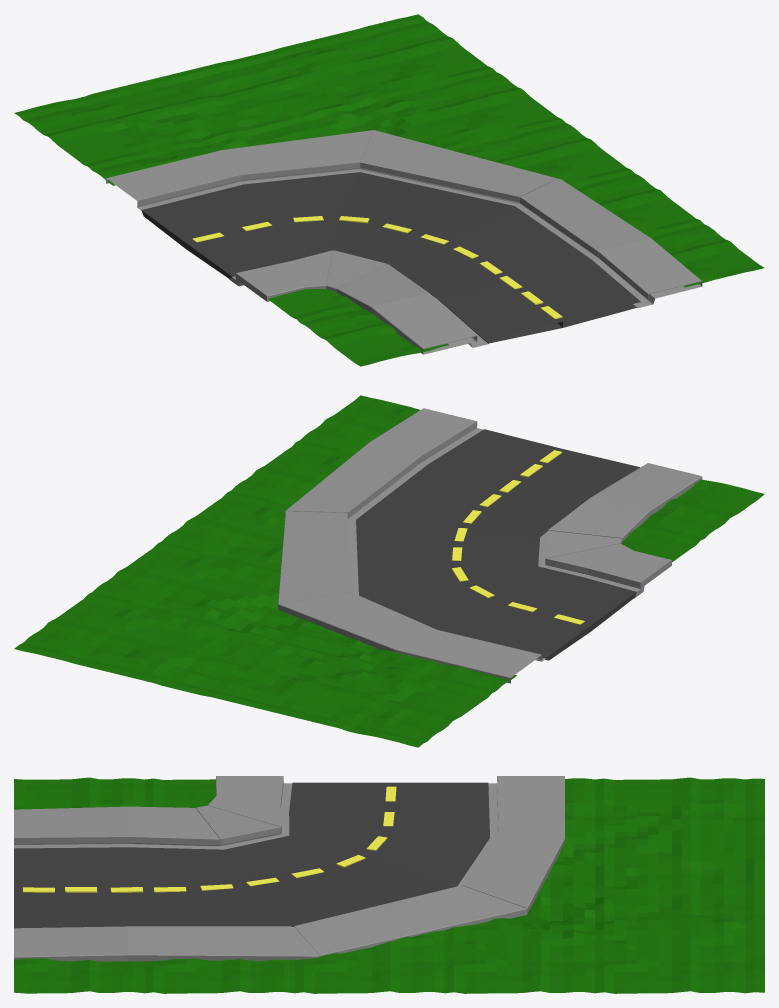
File: Straßen_Kurve.fbx
3 renders of one model, top to bottom at view 1: azimuth 30°, elevation 25°; view 2: azimuth 150°, elevation 25°; view 3: azimuth 270°, elevation 25°, orthographic. The views are drawn at different scales.
Parts seen in each view (by area): view 1: Kurve; view 2: Kurve; view 3: Kurve.
Part boxes in pixels (x1,y1,x2,y2): Kurve: (14,14,764,366); Kurve: (14,395,764,747); Kurve: (14,776,764,993).
Size of the model in its own units: 866 by 33.44 by 1284.
